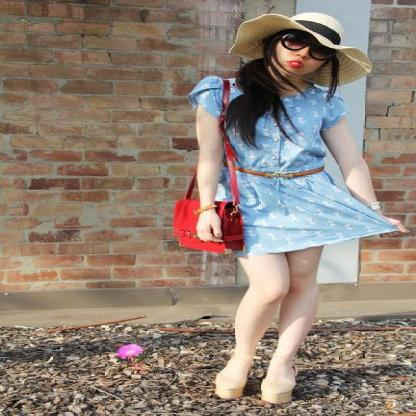bag: (172, 151, 245, 253)
dress: (189, 76, 405, 254)
hat: (226, 13, 371, 91)
shoe: (215, 379, 304, 411)
sunglass: (287, 28, 339, 58)
